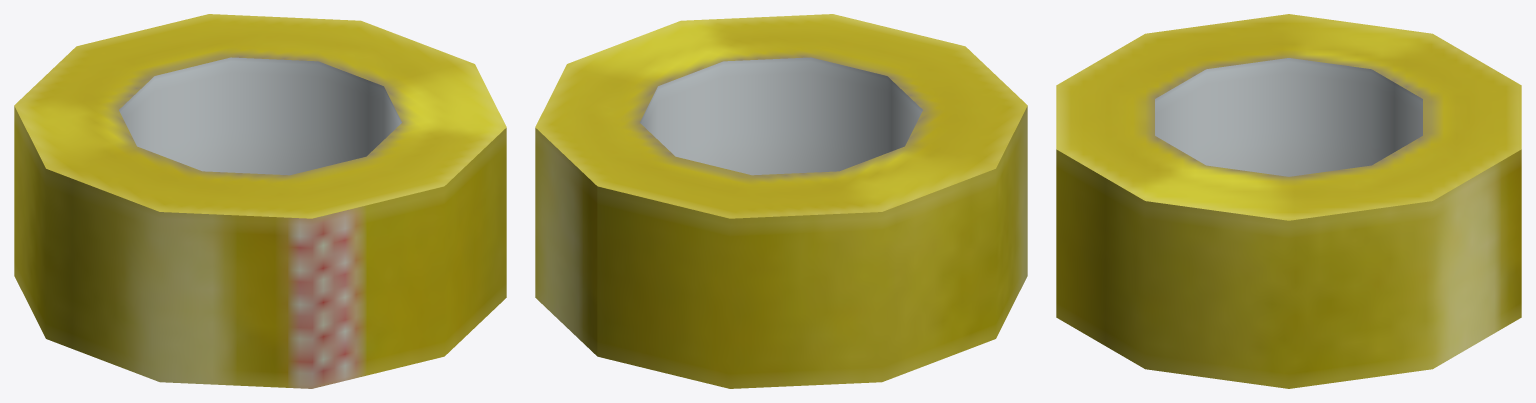
Rendered from CeSuo_01_jiaodai_01.FBX.
The picture shows the model from 3 angles, left to right: view 1: azimuth 30°, elevation 25°; view 2: azimuth 150°, elevation 25°; view 3: azimuth 270°, elevation 25°; orthographic projection.
Visible parts, largest first — view 1: CeSuo_01_jiaodai_01; view 2: CeSuo_01_jiaodai_01; view 3: CeSuo_01_jiaodai_01.
Boxes of the visible parts, <box> form: CeSuo_01_jiaodai_01: <box>14,14,506,388</box>; CeSuo_01_jiaodai_01: <box>535,14,1027,388</box>; CeSuo_01_jiaodai_01: <box>1056,14,1521,388</box>.
Size of the model in its own units: 102 by 38.71 by 97.05.
